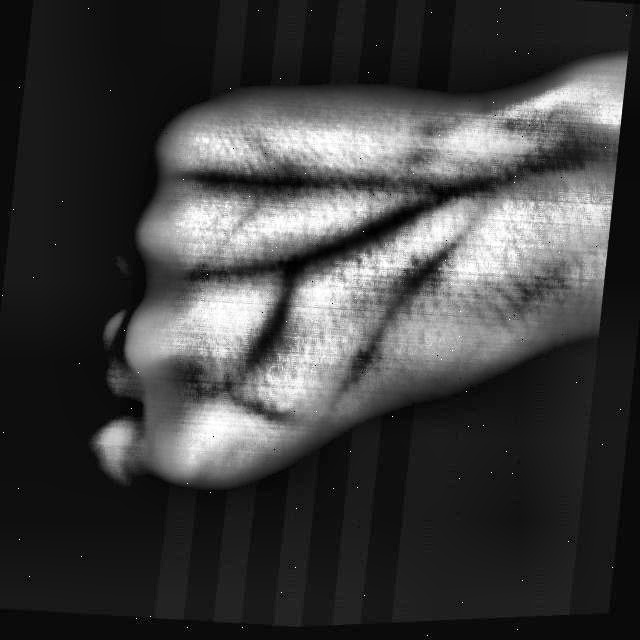Vein: (307, 172, 485, 267)
